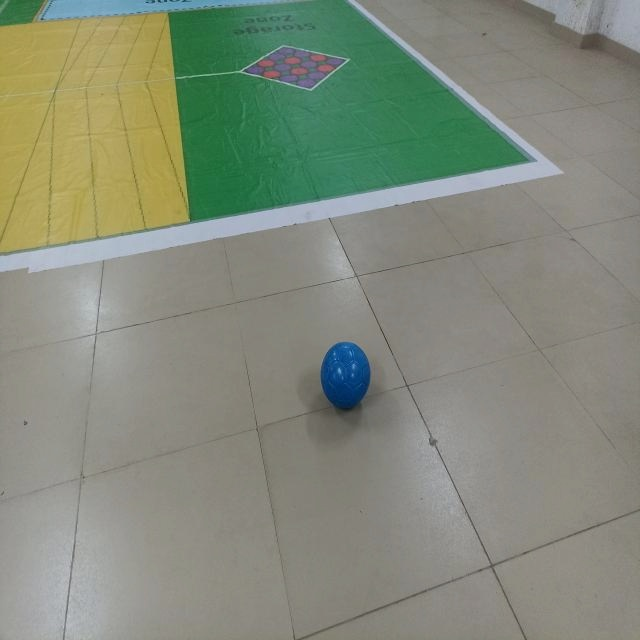blue_ball: (319, 343, 372, 407)
